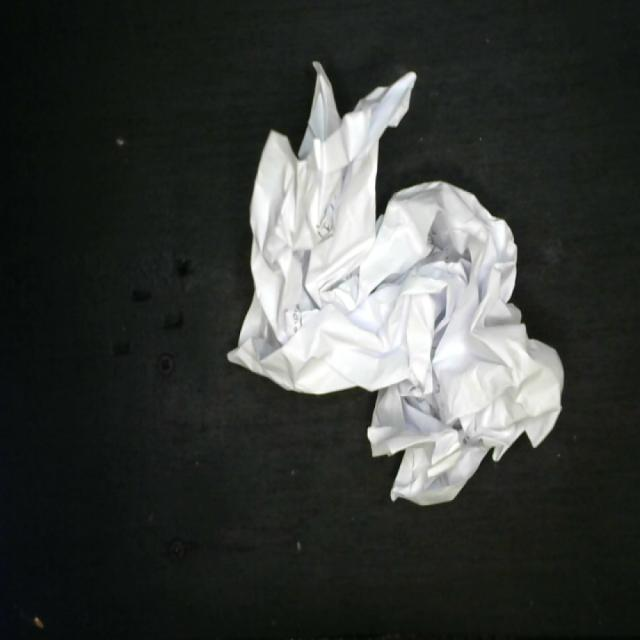biodegradable: (221, 56, 567, 512)
